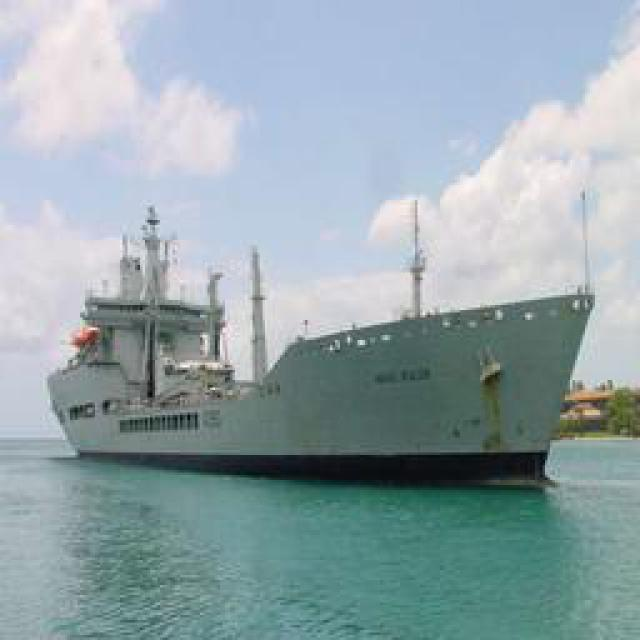Ship: (53, 152, 601, 480)
